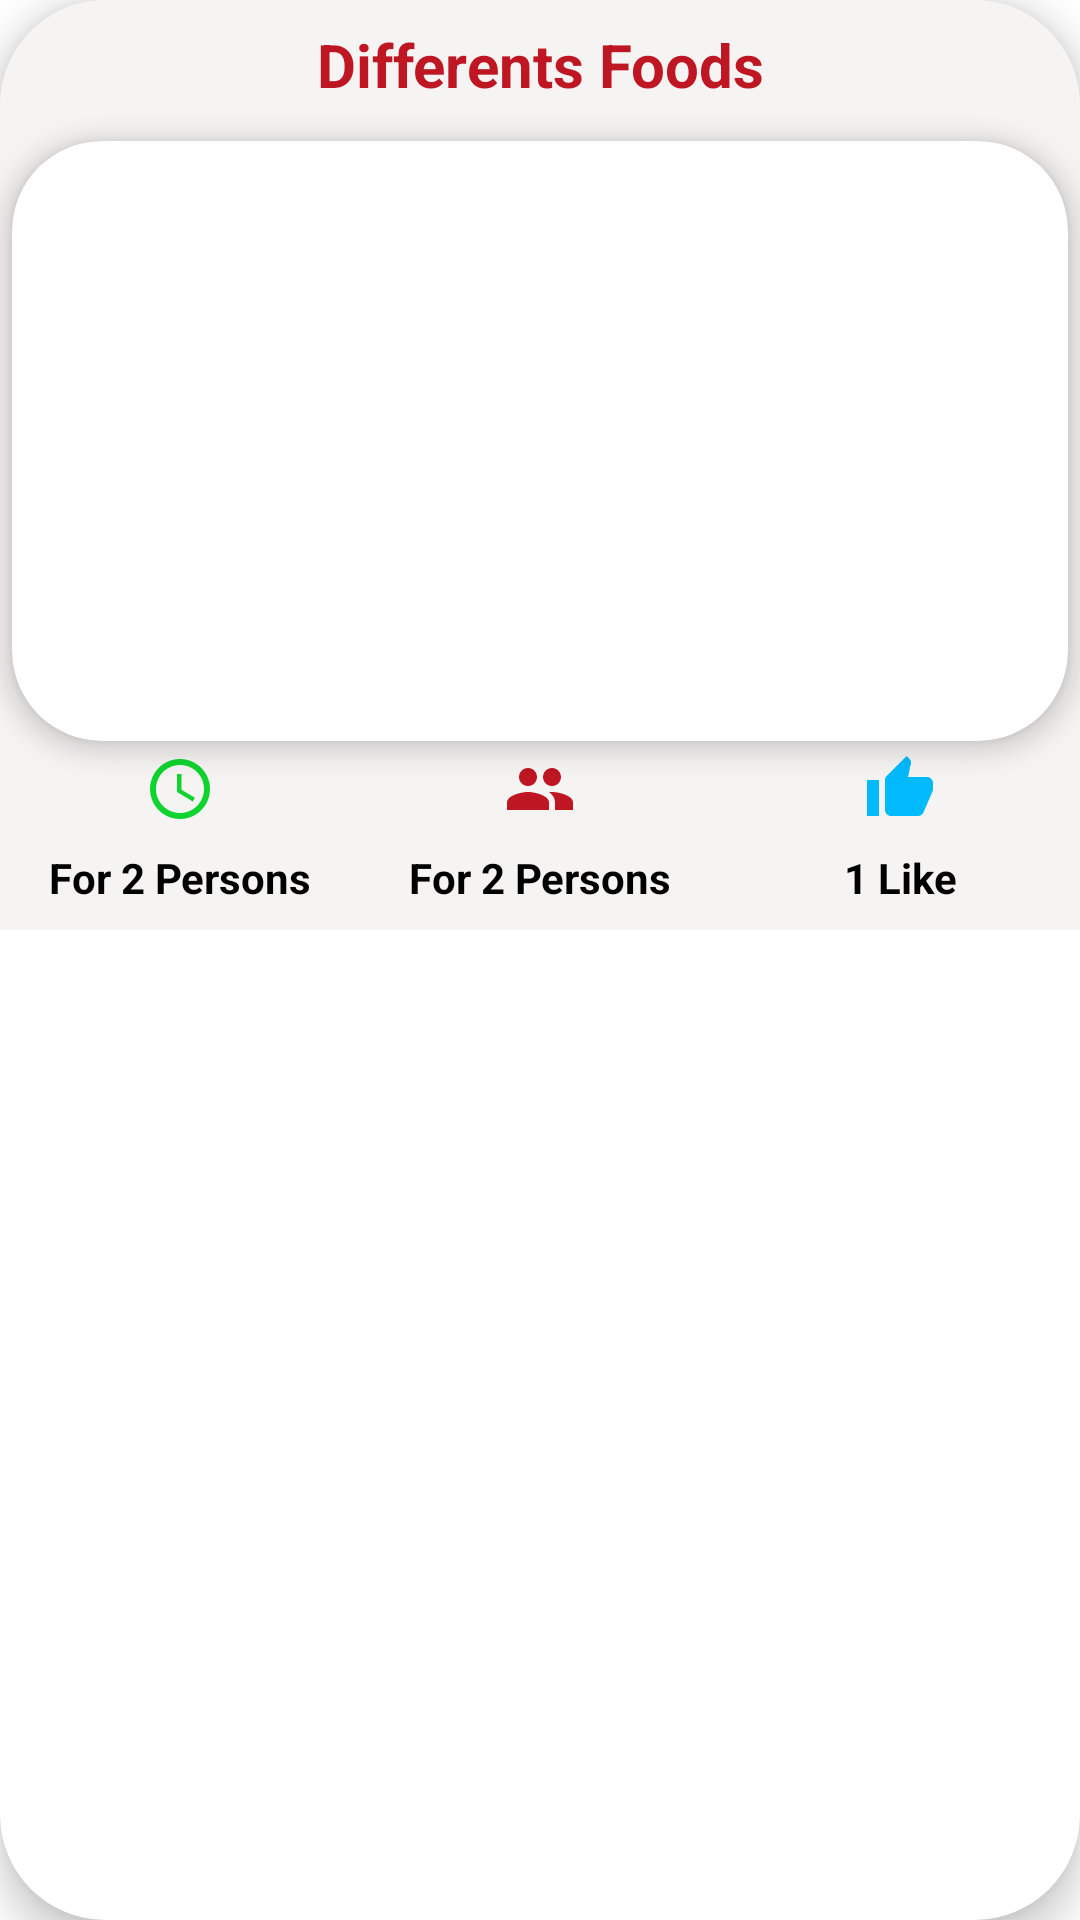

Icon click points for this 1080w x 1920h phone screenshot, format (x,y):
servings: (540,789)
time: (180,789)
